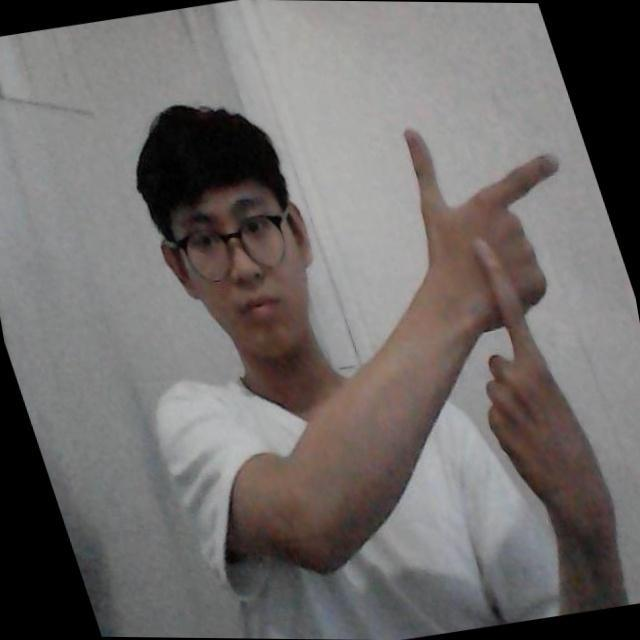Y: (380, 122, 608, 489)
